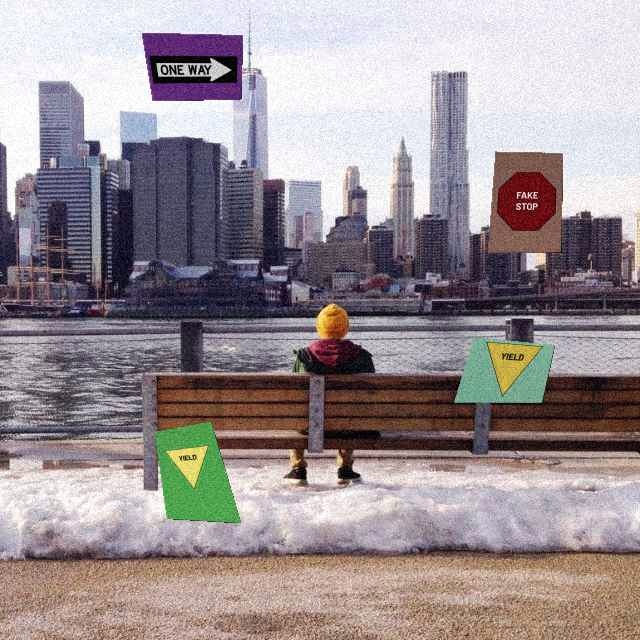FAKE_STOP: (496, 170, 557, 234)
ONE_WAY_ right: (149, 52, 241, 87)
YIELD: (470, 342, 544, 397), (164, 445, 221, 495)
